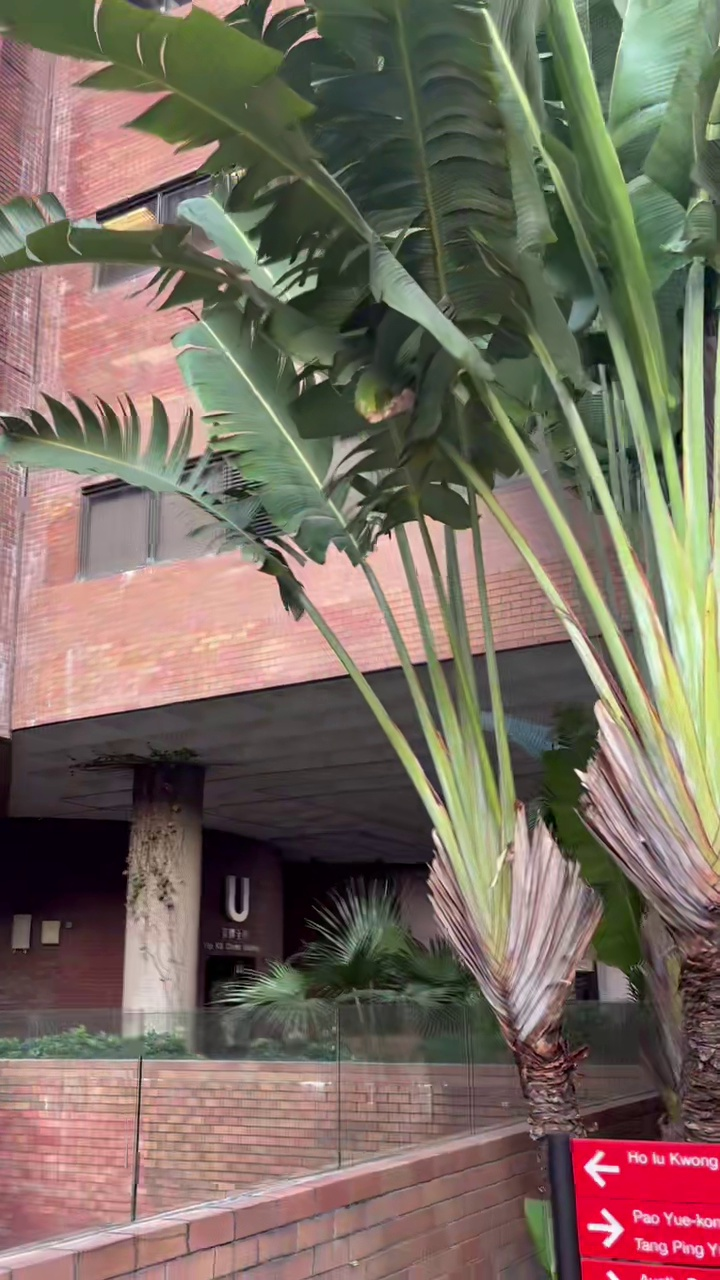Travellers-tree: (0, 0, 719, 1140)
